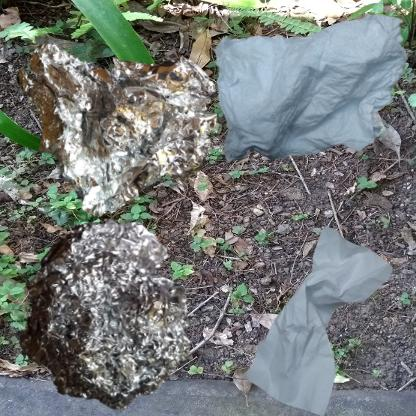aluminio: (10, 10, 243, 235), (10, 213, 197, 416)
papel: (213, 213, 416, 416), (213, 10, 416, 166)
